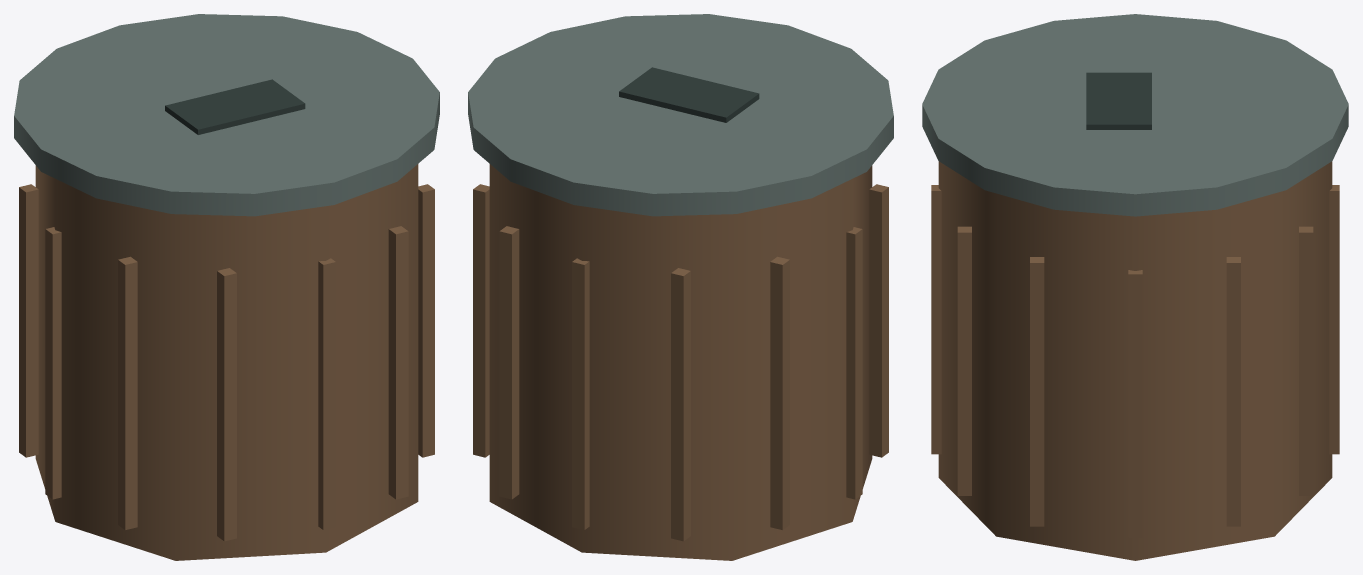
3 views of the same model, side by side, from view 1: azimuth 30°, elevation 25°; view 2: azimuth 150°, elevation 25°; view 3: azimuth 270°, elevation 25° (orthographic).
Parts seen in each view (by area): view 1: climb-bin-3-0, climb-bin-3-1, 쓰레기통 04; view 2: climb-bin-3-0, climb-bin-3-1, 쓰레기통 04; view 3: climb-bin-3-0, climb-bin-3-1, 쓰레기통 04.
Boxes of the visible parts, x1,y1,x2,y2 form: climb-bin-3-0: [35, 164, 418, 560]; climb-bin-3-1: [14, 14, 439, 216]; 쓰레기통 04: [19, 79, 434, 541]; climb-bin-3-0: [489, 164, 872, 560]; climb-bin-3-1: [468, 14, 893, 216]; 쓰레기통 04: [473, 67, 888, 541]; climb-bin-3-0: [938, 161, 1332, 560]; climb-bin-3-1: [922, 14, 1348, 216]; 쓰레기통 04: [931, 72, 1339, 537].
Bounding box in the file's own units: 1.04 × 1.02 × 1.04.
